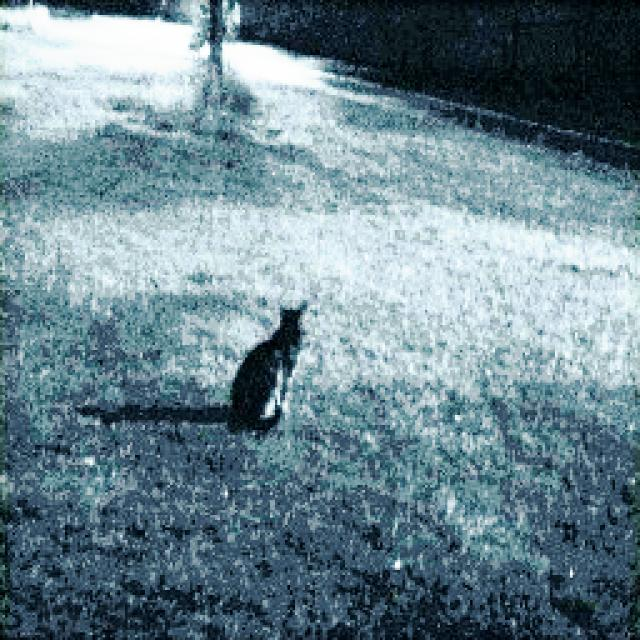cat: (214, 282, 320, 438)
